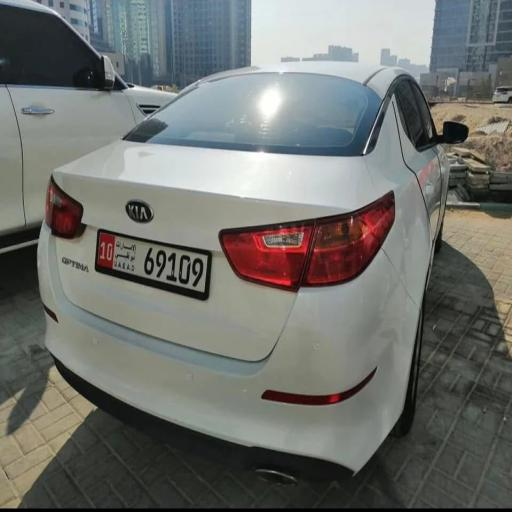license-plates: (97, 232, 208, 293)
